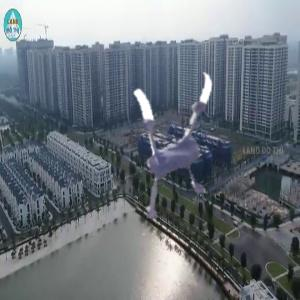drone: (90, 65, 248, 223)
